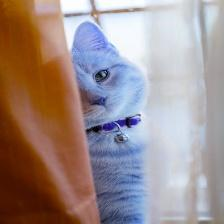kedo: (75, 20, 147, 224)
